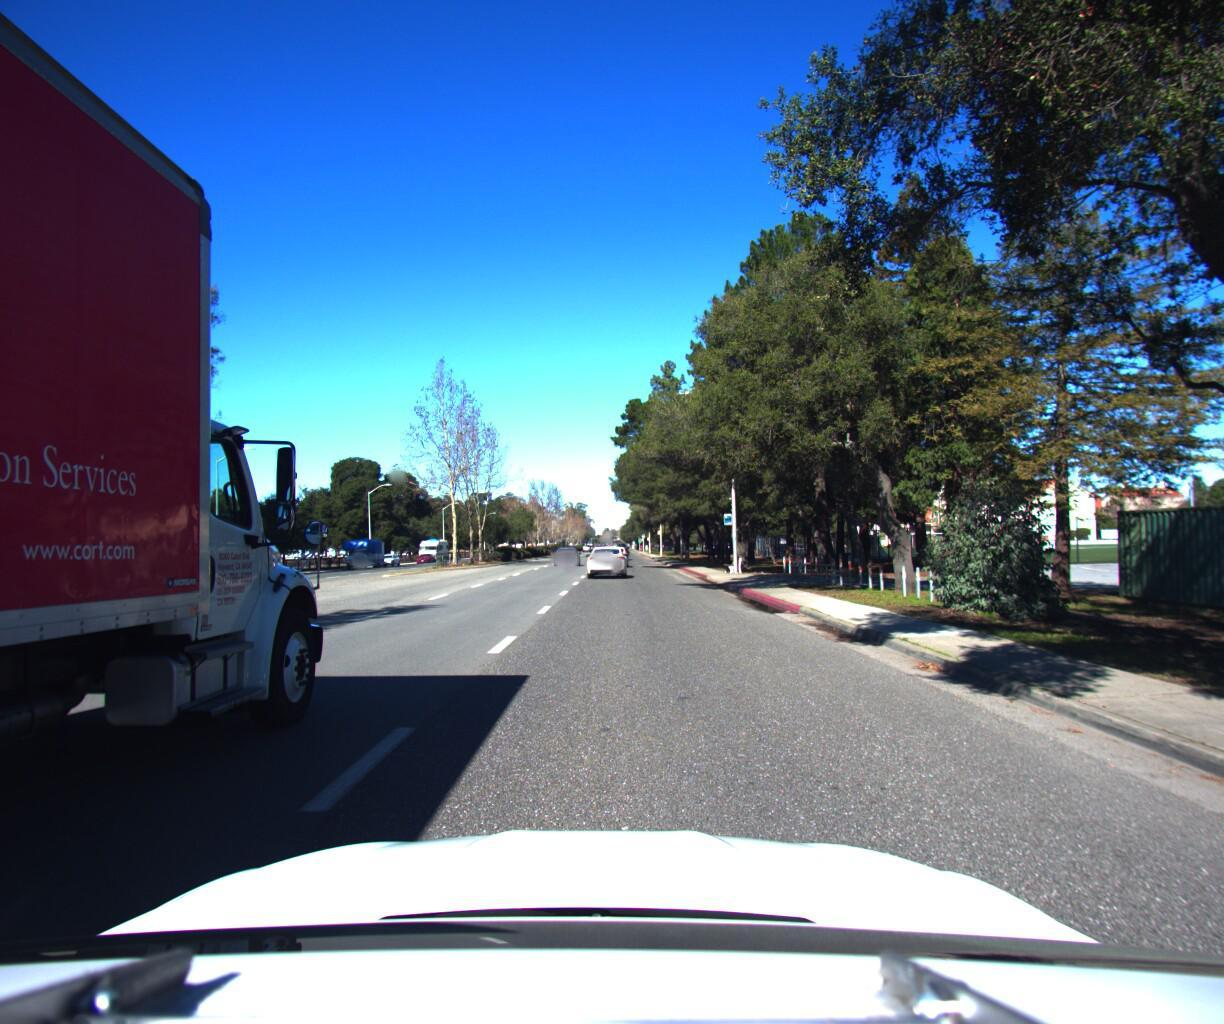car: (583, 538, 628, 573), (549, 536, 580, 558)
other_vehicle: (340, 528, 390, 562)
